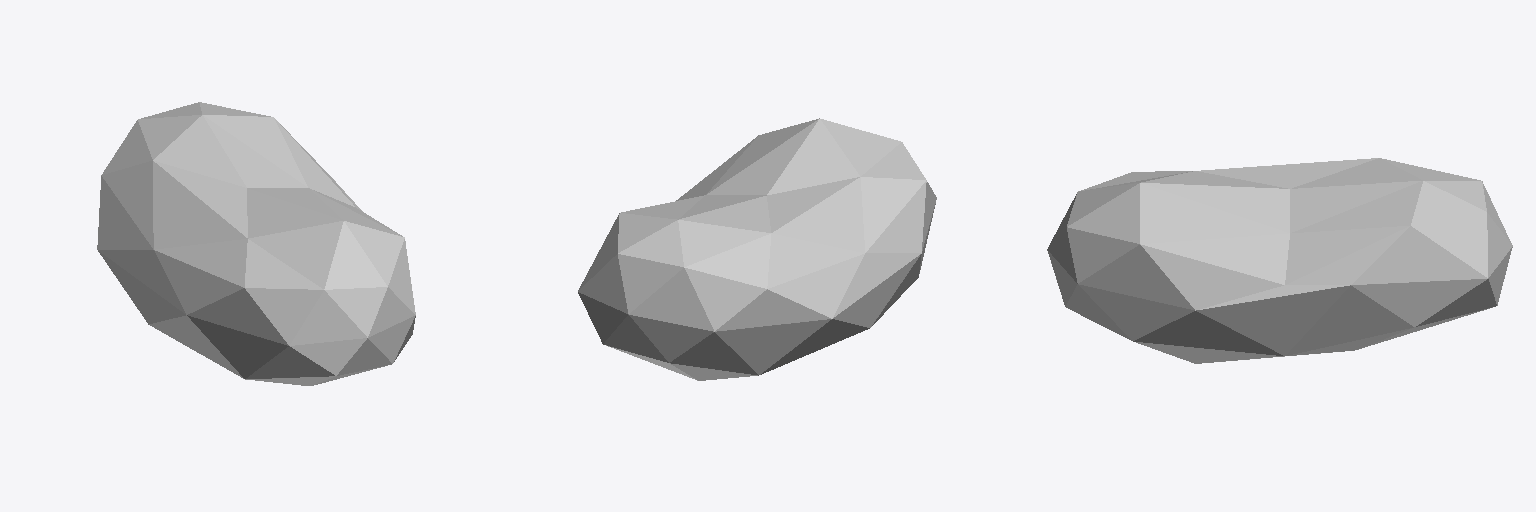
Rendered from asteroid.obj.
3 views of the same model, side by side, from view 1: azimuth 30°, elevation 25°; view 2: azimuth 150°, elevation 25°; view 3: azimuth 270°, elevation 25° (orthographic).
Visible parts, largest first — view 1: Icosphere; view 2: Icosphere; view 3: Icosphere.
Boxes of the visible parts, box(x1,y1,x2,y2) form: Icosphere: box(97, 102, 415, 385); Icosphere: box(578, 118, 936, 380); Icosphere: box(1047, 158, 1512, 363).
Bounding box in the file's own units: 1.54 × 1.11 × 2.79.